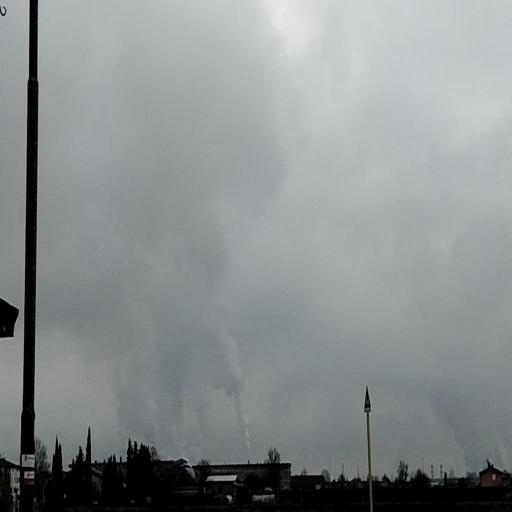leakage: (59, 224, 260, 482)
